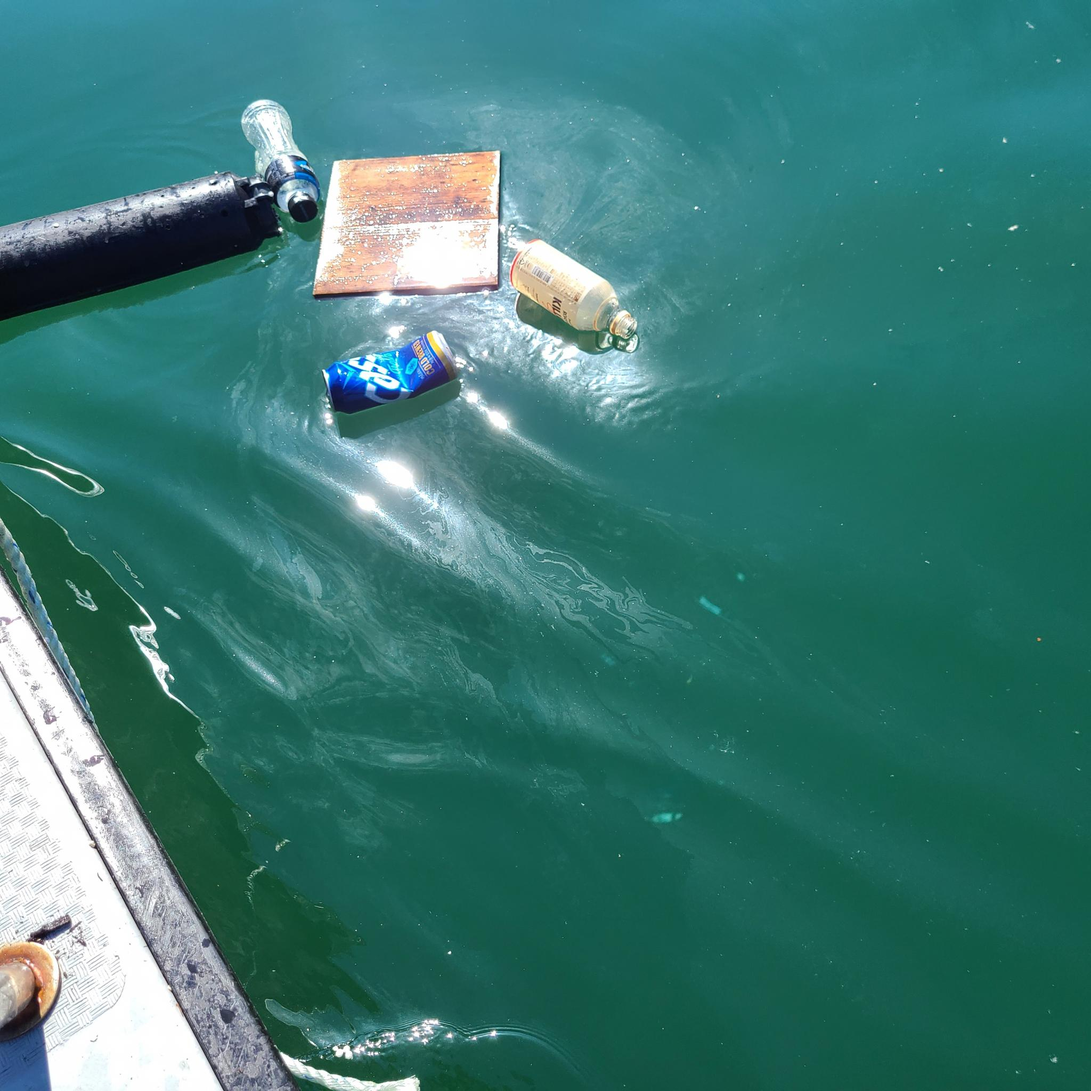sampah_terapung: (1, 172, 283, 322), (509, 240, 639, 340), (322, 330, 458, 415), (241, 99, 321, 224)
